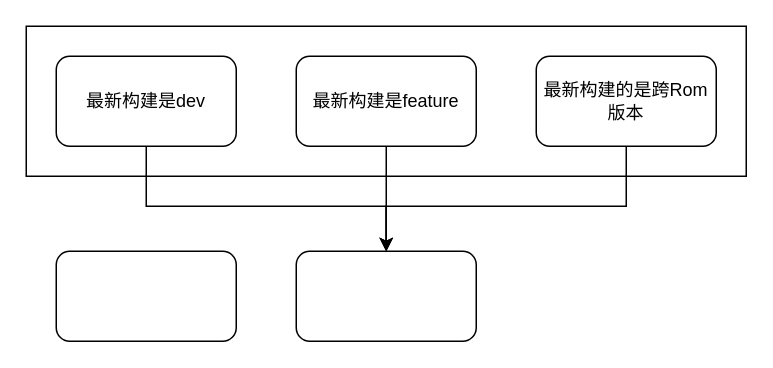
Some shapes in this 773 by 368 pixel diagram are drawn without their labels. Each missing label, with the centre of its shape:
"人工配置" belongs at [145,295].
"自动生成json" belongs at [385,295].
